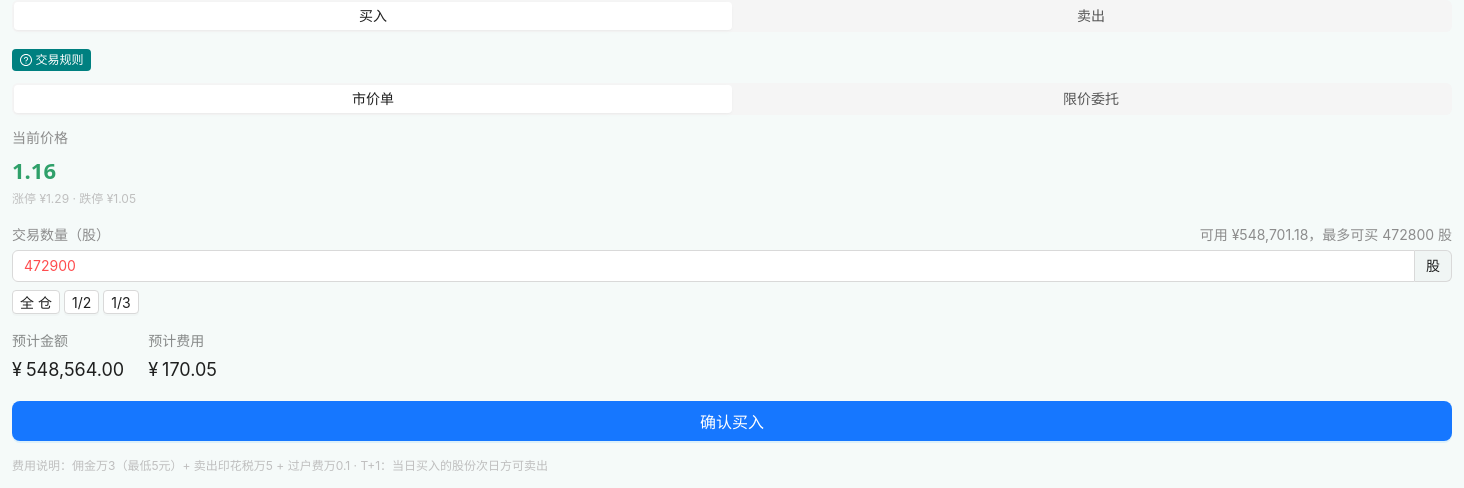
Scenario: F-31 本地资金校验（P1） › P1 数量超过按当前快照算出的可买上限时本地拦截，不发请求
Click the button with test id "trade-submit" at (732, 421), box [12,401,1452,441]
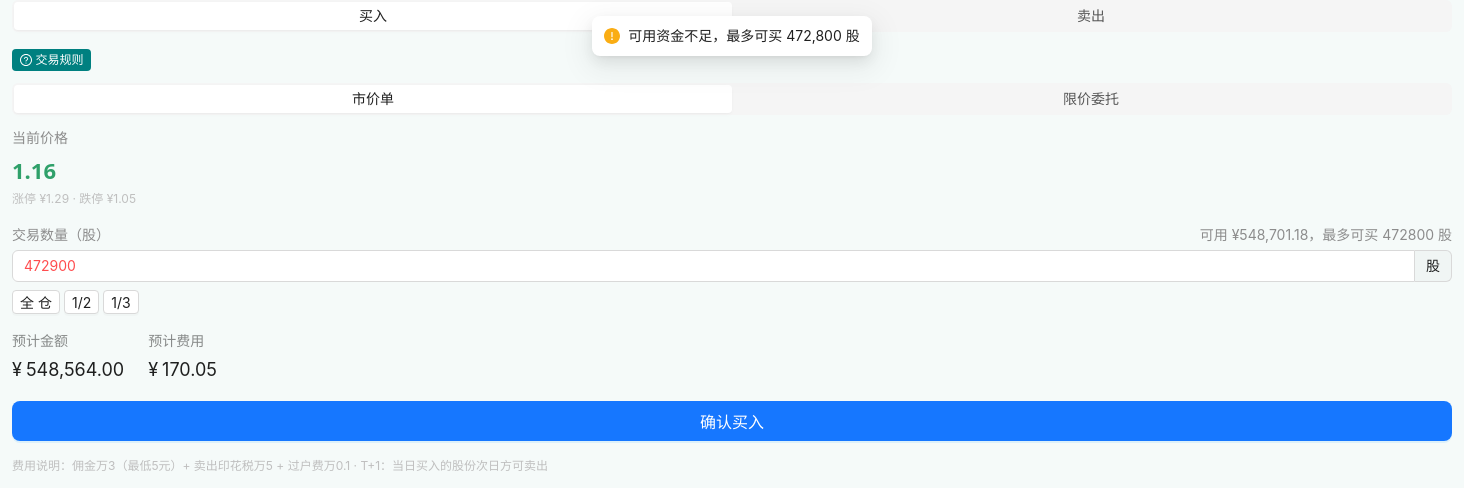
Expected: the text "可用资金不足，最多可买 472,800 股" is shown, [628,25,860,47]
